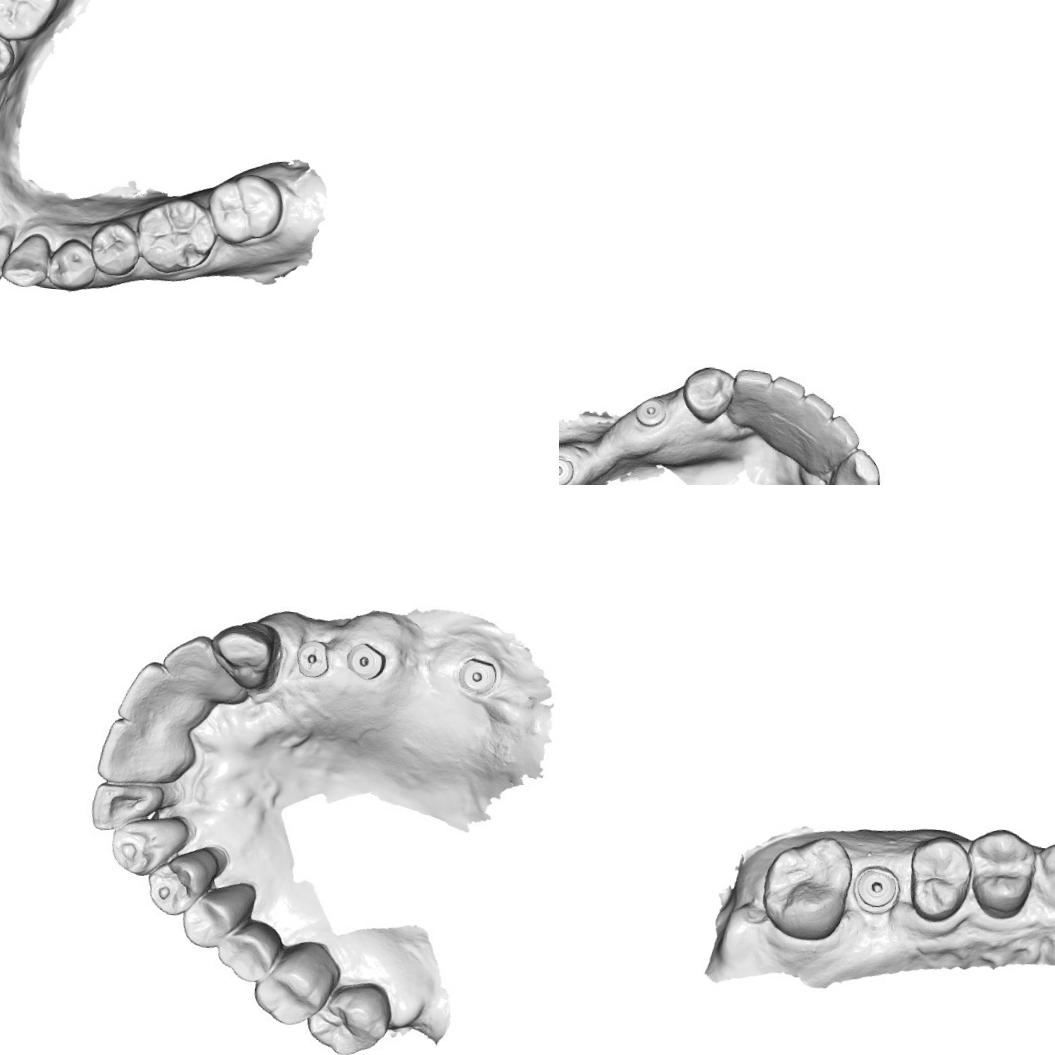canine: (106, 807, 192, 881), (206, 616, 283, 690), (681, 360, 734, 430), (0, 229, 53, 289), (825, 446, 884, 485), (1033, 836, 1055, 911)
implant: (337, 638, 396, 685), (852, 862, 902, 917), (456, 650, 503, 706), (636, 396, 673, 432), (559, 446, 574, 485)
implant_plus: (285, 634, 334, 678)
incisor: (96, 719, 198, 789), (115, 656, 199, 733), (156, 632, 234, 705), (84, 776, 165, 838), (766, 371, 810, 425), (728, 369, 771, 423), (818, 412, 860, 458), (797, 394, 836, 438), (0, 224, 14, 285)
molar: (758, 829, 856, 947), (130, 192, 222, 279), (245, 948, 336, 1030), (300, 977, 395, 1055), (204, 169, 287, 249), (0, 0, 64, 46)
premolar: (962, 824, 1039, 924), (902, 833, 973, 926), (142, 847, 213, 919), (180, 884, 251, 948), (86, 217, 143, 279), (43, 235, 101, 295), (219, 924, 282, 979), (0, 24, 18, 85)
